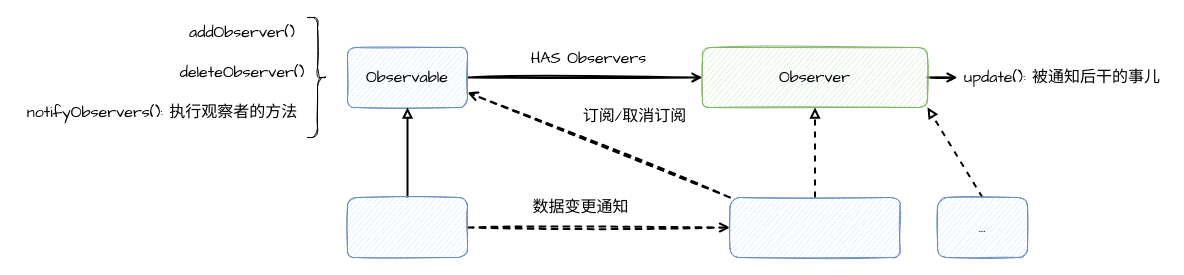
Image size: 1184x275. Some labels were removed from this diagram. The shapes that lost their labels are listed below. From the top down, each one's box as (x1, y1, x2, y2) in pixels, then its label:
(346, 196, 468, 258): WeatherData
(729, 196, 900, 258): TemperatureLog
